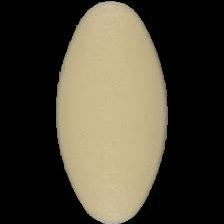0615-7629: (0, 0, 224, 224)
